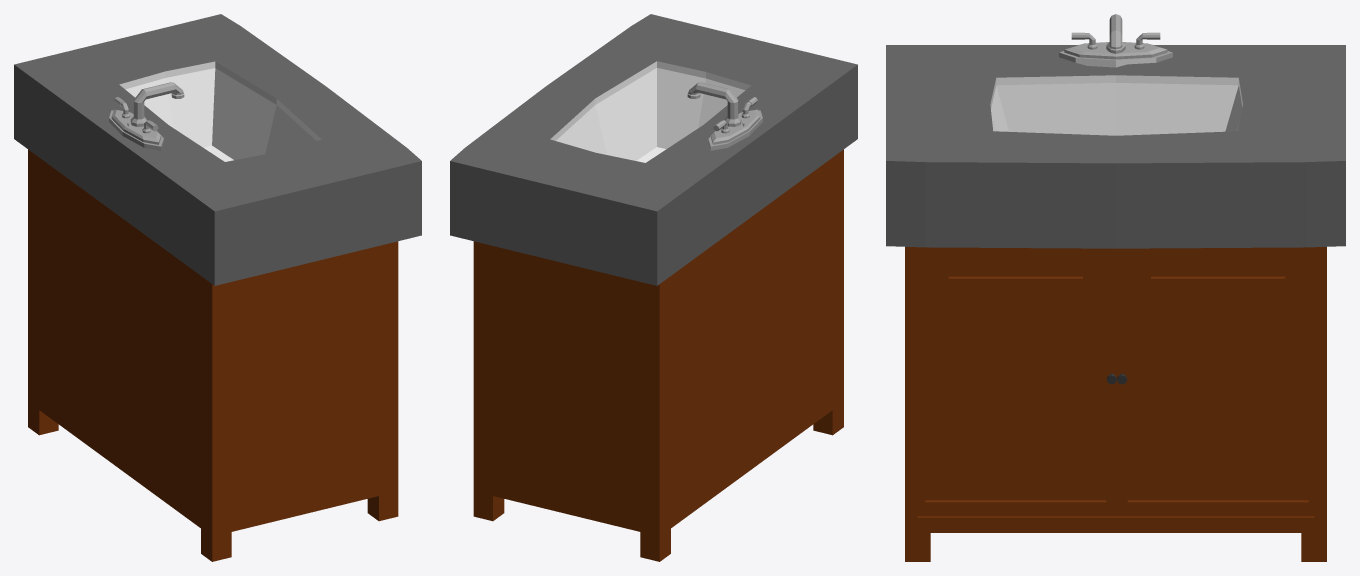
Rendered from Vanity.fbx.
3 renders of one model, left to right at view 1: azimuth 30°, elevation 25°; view 2: azimuth 150°, elevation 25°; view 3: azimuth 270°, elevation 25°, orthographic. The views are drawn at different scales.
Visible parts, largest first — view 1: Vanity.003, Vanity, Vanity.006, Vanity.002; view 2: Vanity.003, Vanity, Vanity.006, Vanity.002; view 3: Vanity.003, Vanity, Vanity.006, Vanity.002.
Part boxes in pixels (x1=…): Vanity.003: x1=28, y1=149, x2=398, y2=561; Vanity: x1=14, y1=14, x2=421, y2=285; Vanity.006: x1=119, y1=61, x2=321, y2=161; Vanity.002: x1=109, y1=82, x2=184, y2=150; Vanity.003: x1=473, y1=149, x2=843, y2=561; Vanity: x1=450, y1=14, x2=857, y2=285; Vanity.006: x1=550, y1=61, x2=750, y2=162; Vanity.002: x1=687, y1=82, x2=762, y2=150; Vanity.003: x1=905, y1=246, x2=1326, y2=561; Vanity: x1=886, y1=45, x2=1345, y2=248; Vanity.006: x1=990, y1=75, x2=1242, y2=135; Vanity.002: x1=1059, y1=14, x2=1172, y2=67.
Bounding box in the file's own units: 0.7279 × 1.31 × 1.2.
